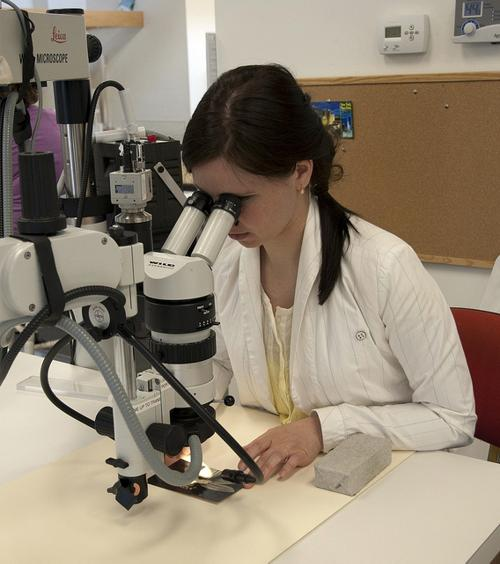person: (164, 64, 478, 487)
